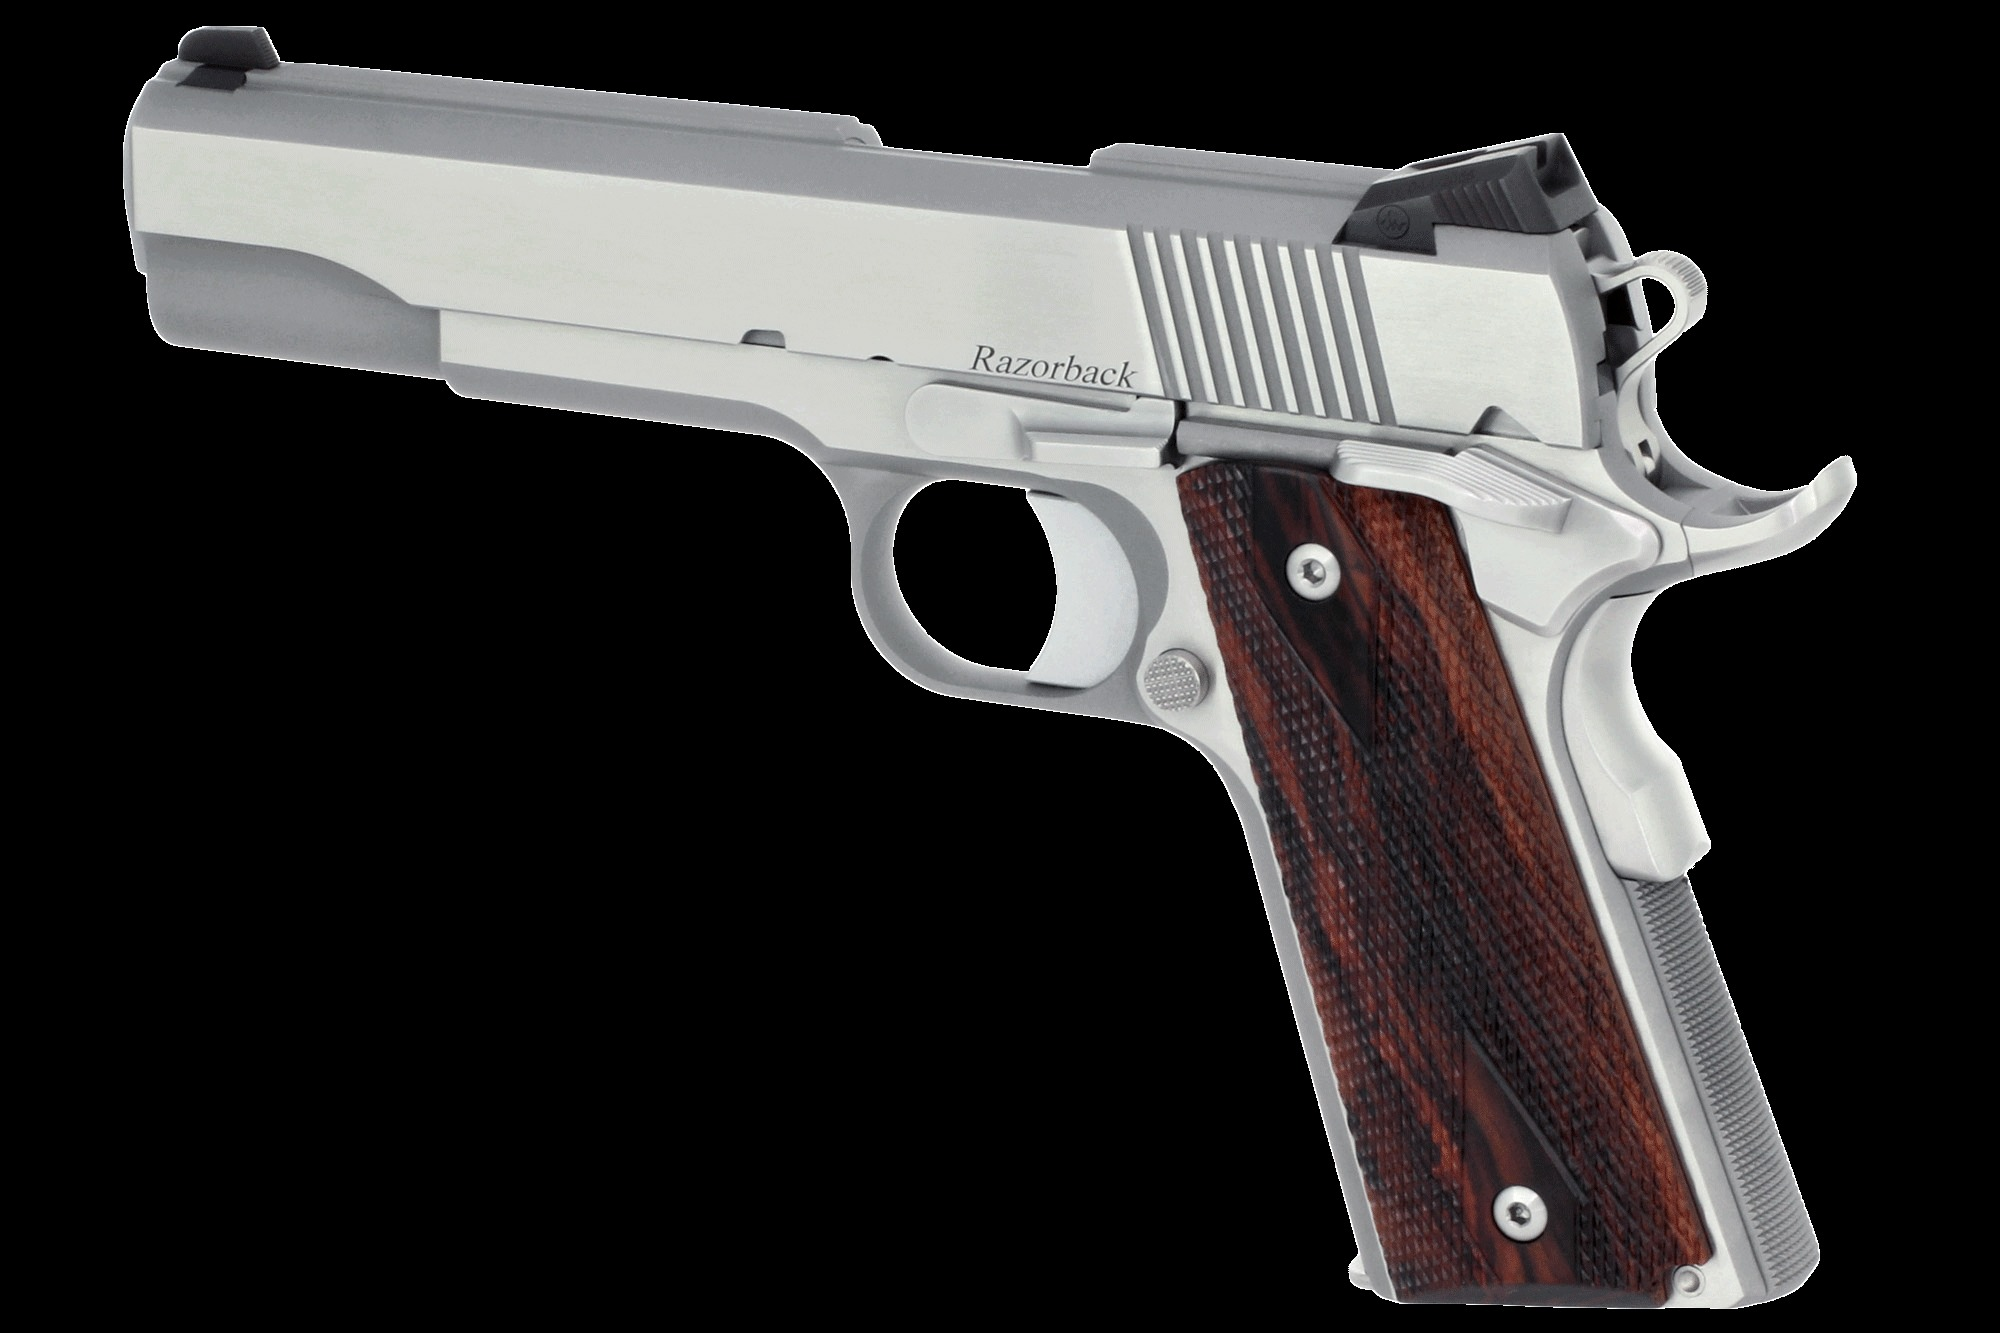gun: (82, 13, 1880, 1308)
